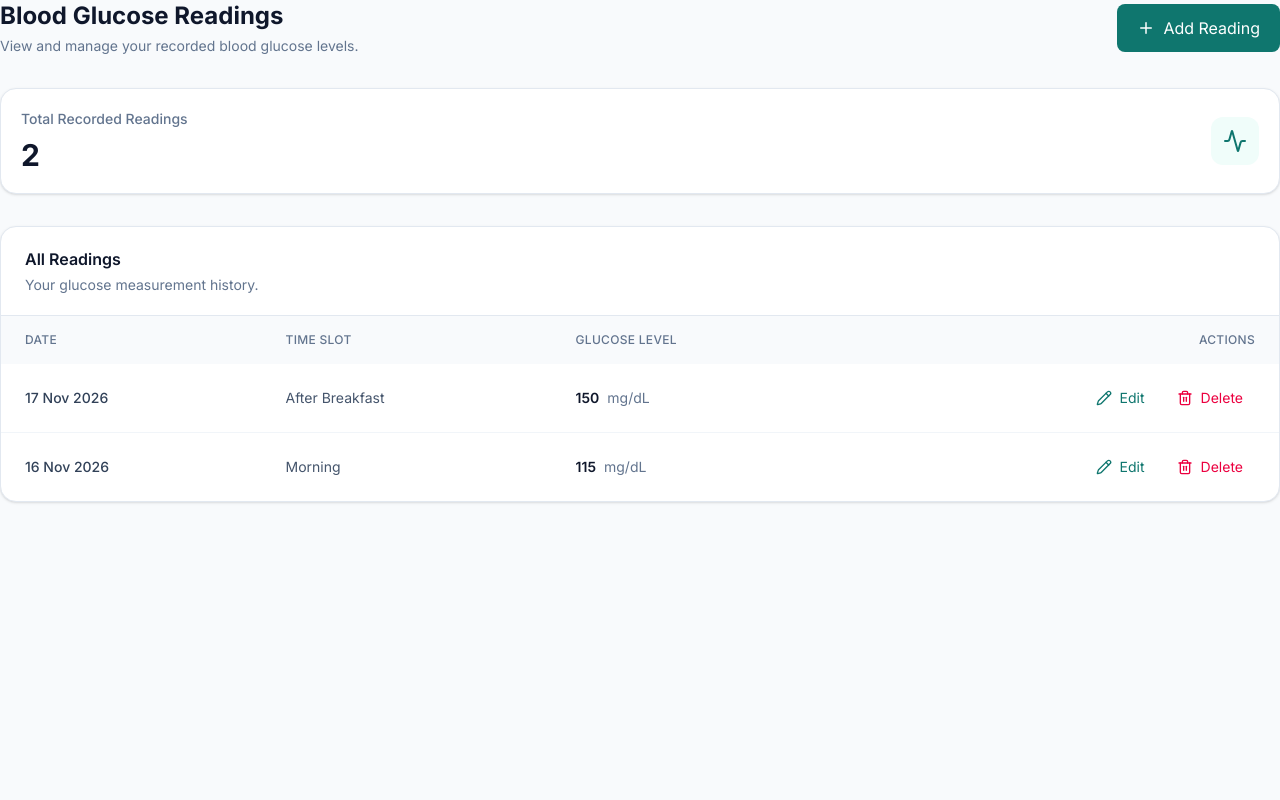
Test: ReadingsPage › creates a new reading and refreshes the list
Expected: the text "After Breakfast" is shown, top-left (262, 364), bottom-right (552, 432)
Click the button "Add Reading" at (1199, 28), box top-left (1117, 4), bottom-right (1279, 52)
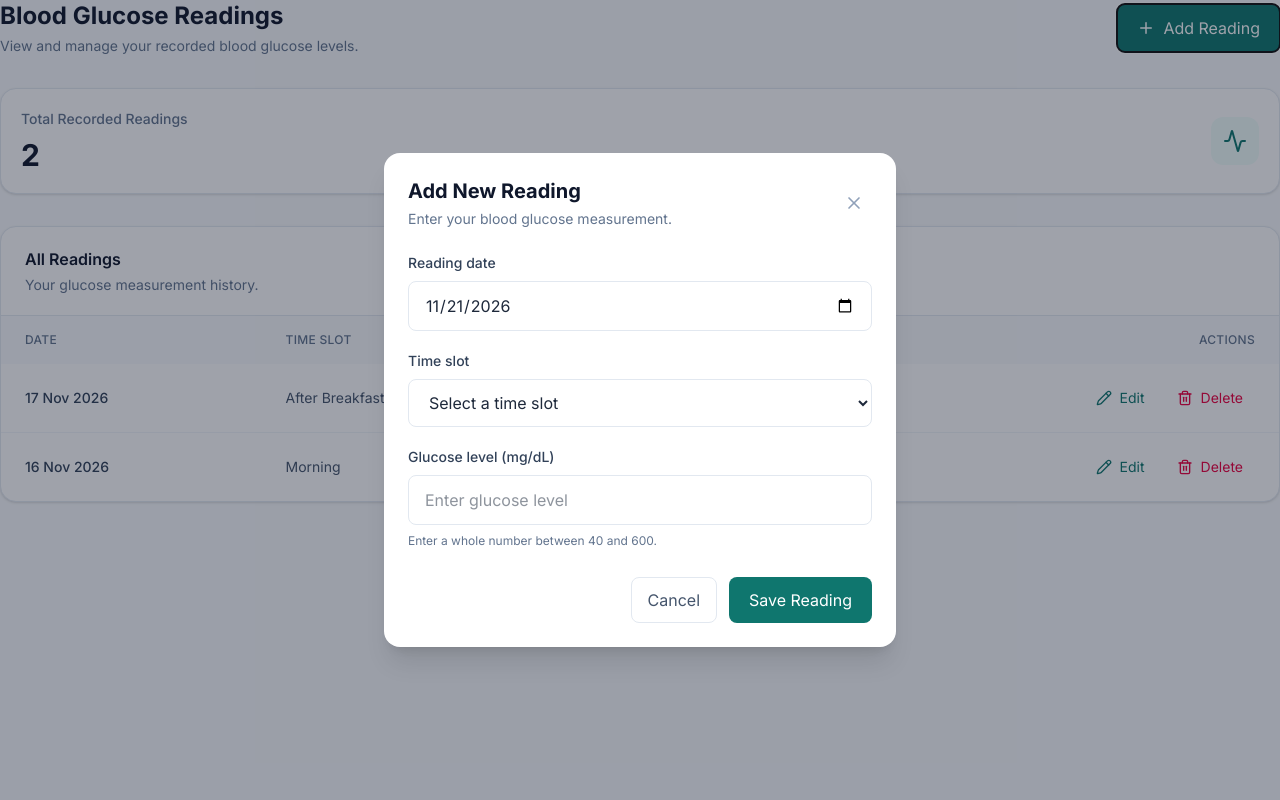
Now the dialog "Add New Reading" is shown, box top-left (384, 153), bottom-right (896, 647)
Select "Morning" in the dropdown labelled "Time slot" at (640, 403), box top-left (408, 379), bottom-right (872, 427)
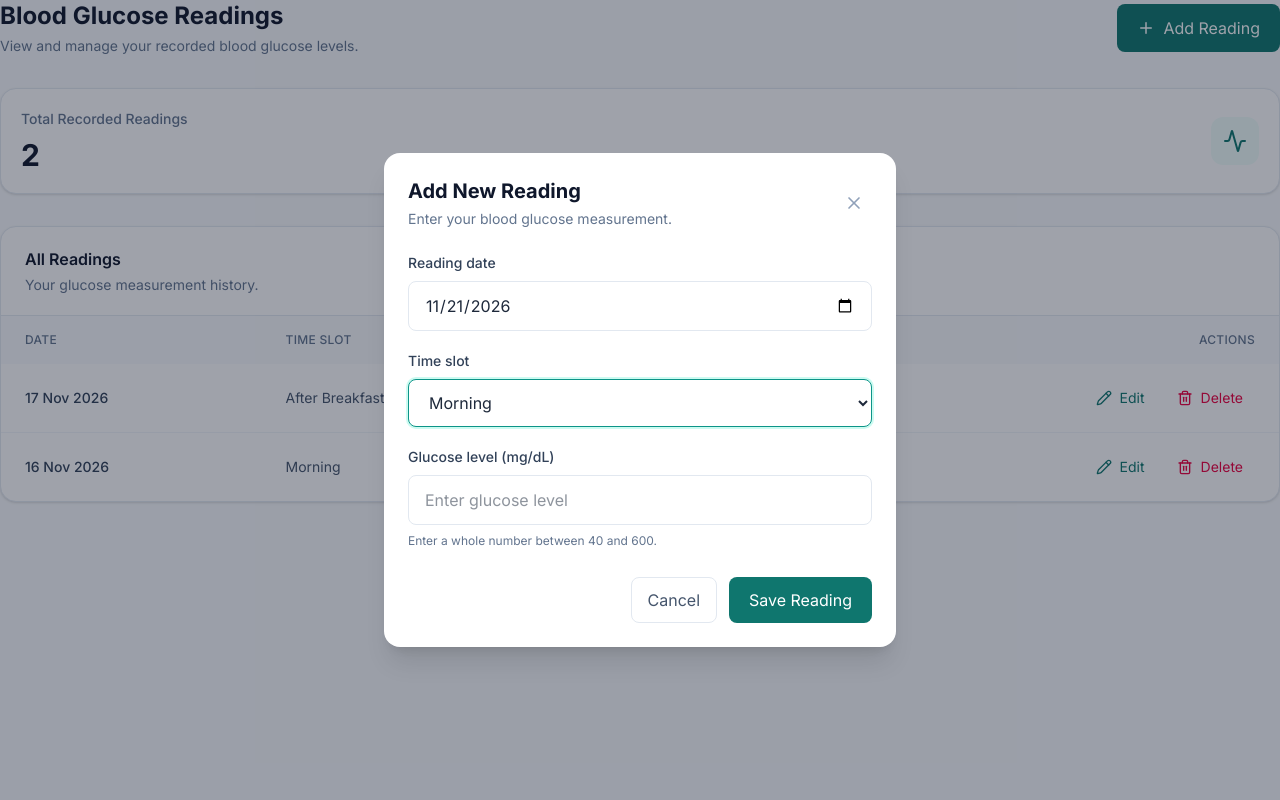
Type "120" into the number field labelled "Glucose level (mg/dL)" at (640, 500), box top-left (408, 475), bottom-right (872, 525)
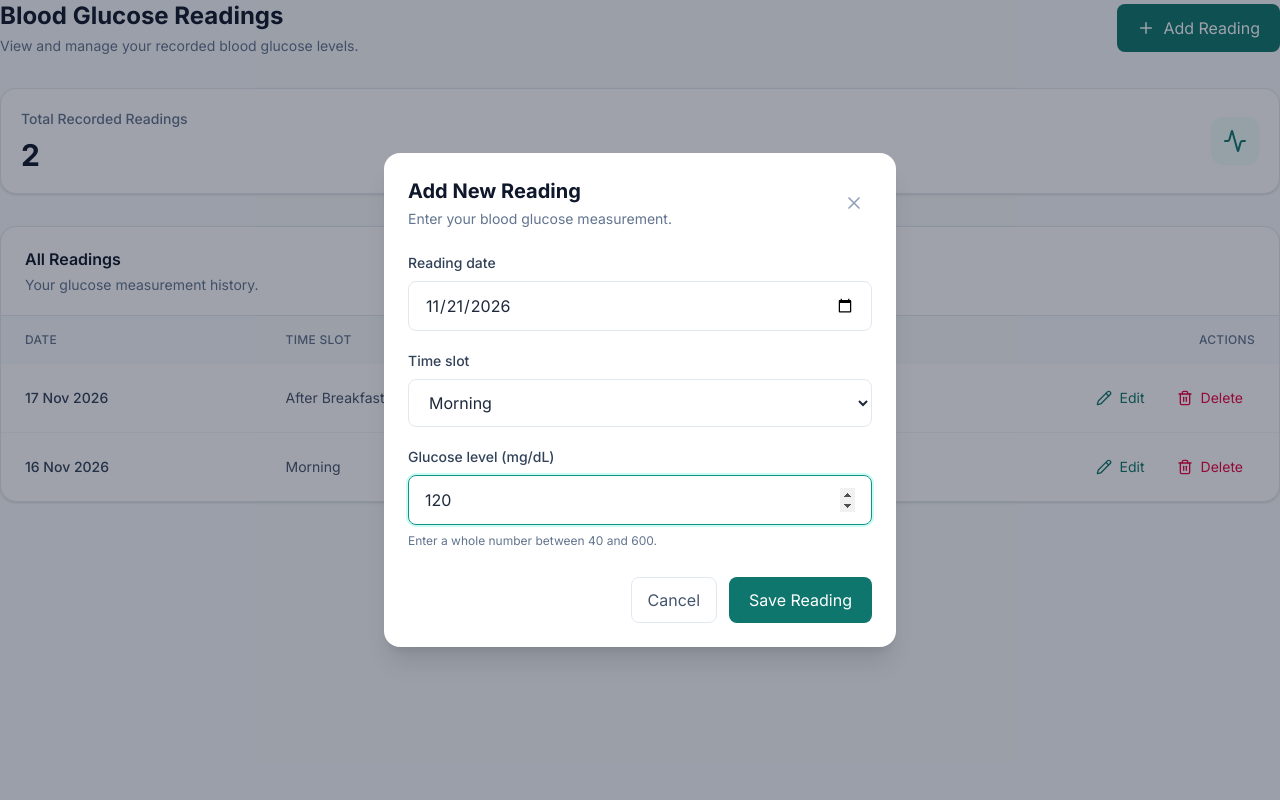
Click the button "Save Reading" at (800, 600), box top-left (729, 577), bottom-right (872, 623)
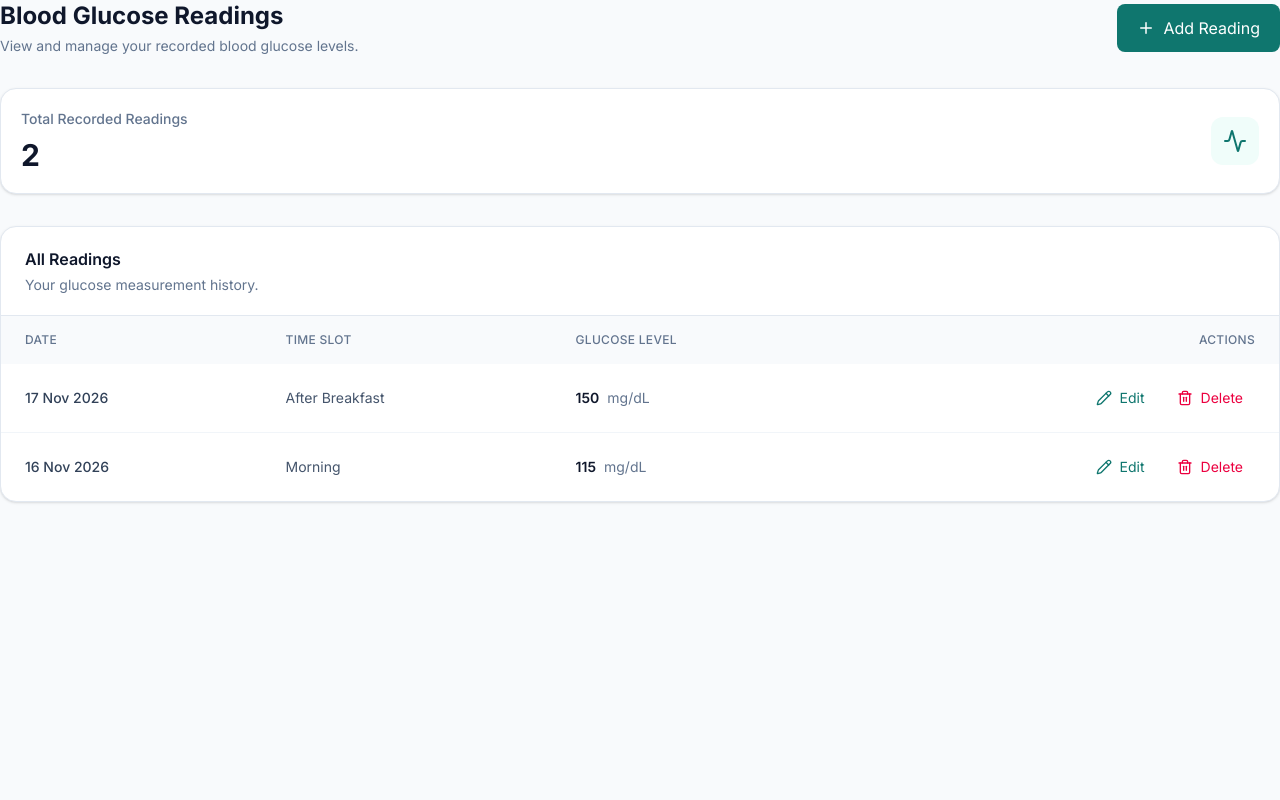
Now the dialog is gone
